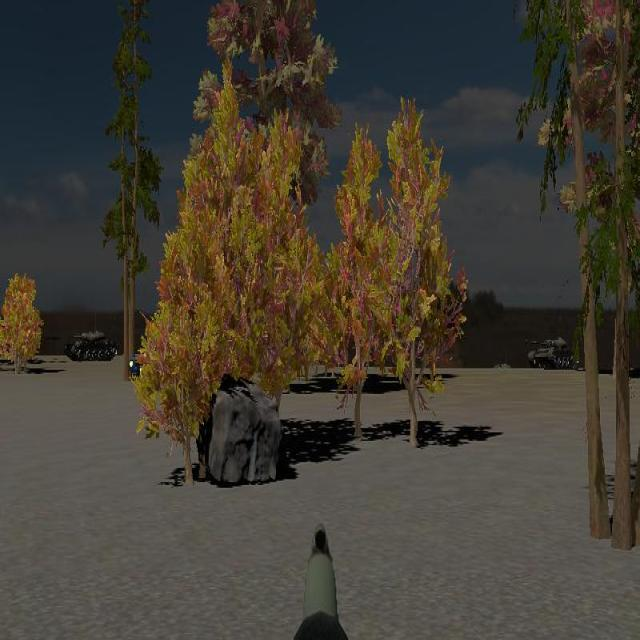Tank: (49, 328, 118, 362), (524, 335, 577, 371)
